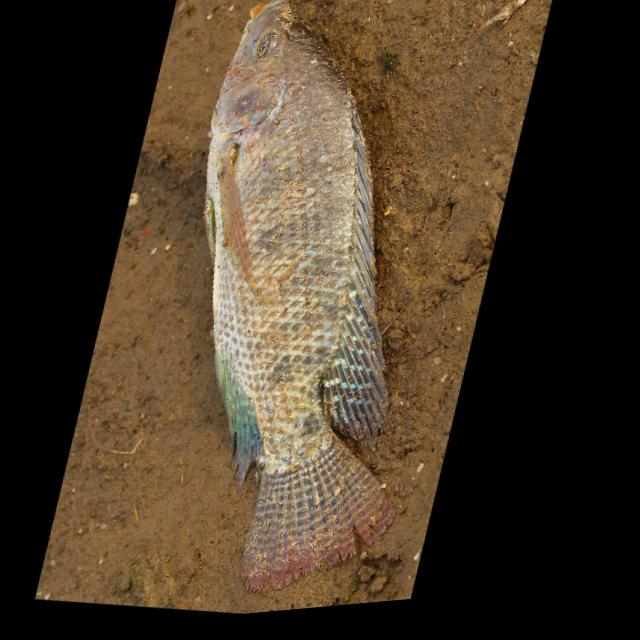Tilapia: (97, 0, 514, 624)
